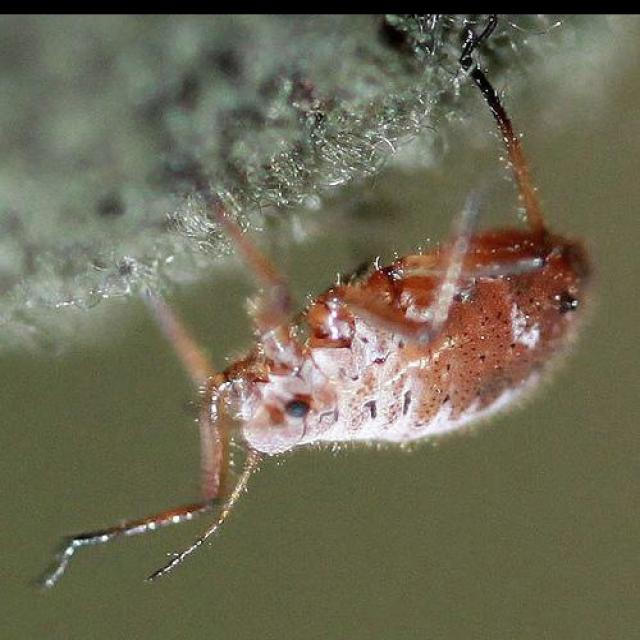Aphids: (16, 56, 610, 616)
